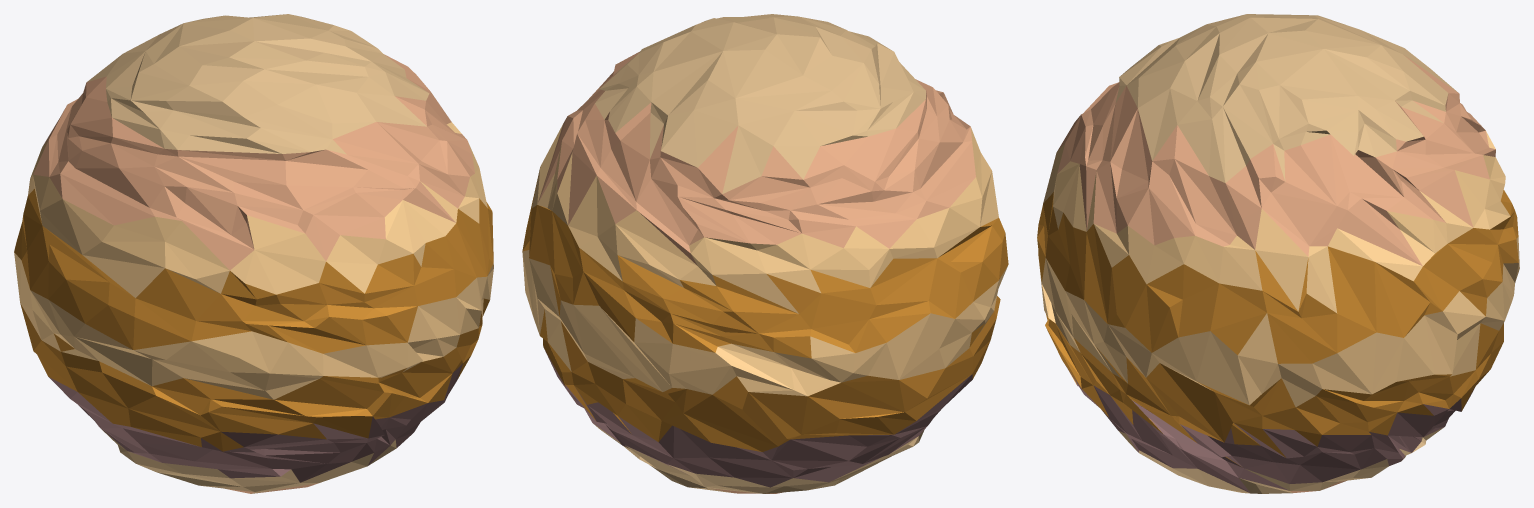
File: juipter.fbx
3 renders of one model, left to right at view 1: azimuth 30°, elevation 25°; view 2: azimuth 150°, elevation 25°; view 3: azimuth 270°, elevation 25°, orthographic.
Parts seen in each view (by area): view 1: Jupiter; view 2: Jupiter; view 3: Jupiter.
Part boxes in pixels (<box>): Jupiter: <box>14,14,493,493</box>; Jupiter: <box>522,14,1008,493</box>; Jupiter: <box>1037,14,1519,493</box>.
Size of the model in its own units: 88.29 by 89.14 by 88.8.
